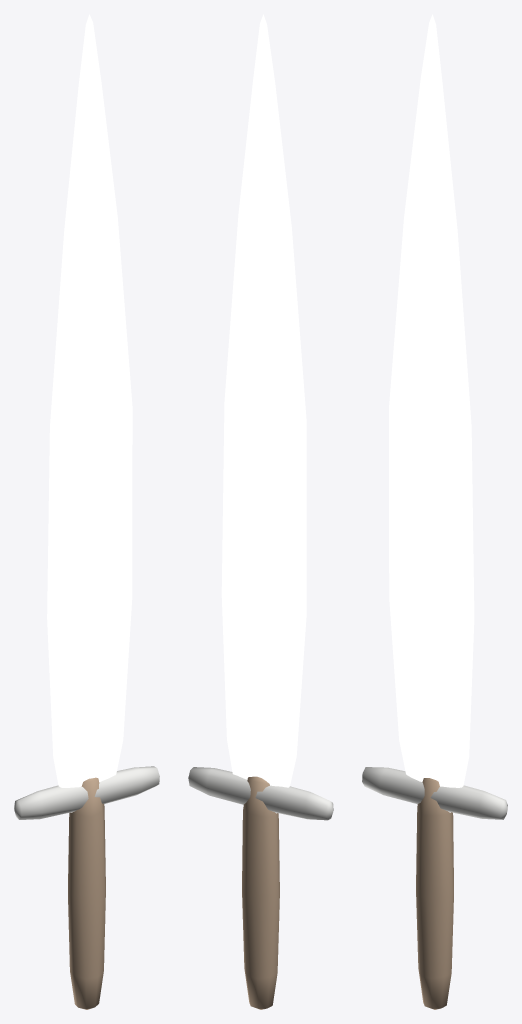
Rendered from blade.glb.
The picture shows the model from 3 angles, left to right: view 1: azimuth 30°, elevation 25°; view 2: azimuth 150°, elevation 25°; view 3: azimuth 330°, elevation 25°; orthographic projection.
Parts seen in each view (by area): view 1: Edge, GripWrap, Guard; view 2: Edge, GripWrap, Guard; view 3: Edge, GripWrap, Guard.
Part boxes in pixels (bbox=[...]): Edge: bbox=[47, 14, 132, 812]; GripWrap: bbox=[68, 777, 105, 1009]; Guard: bbox=[14, 766, 159, 819]; Edge: bbox=[221, 14, 306, 813]; GripWrap: bbox=[242, 776, 279, 1009]; Guard: bbox=[188, 767, 333, 820]; Edge: bbox=[389, 14, 474, 812]; GripWrap: bbox=[416, 778, 453, 1009]; Guard: bbox=[362, 767, 507, 819].
Bounding box in the file's own units: 0.14 × 0.9199 × 0.0279.
